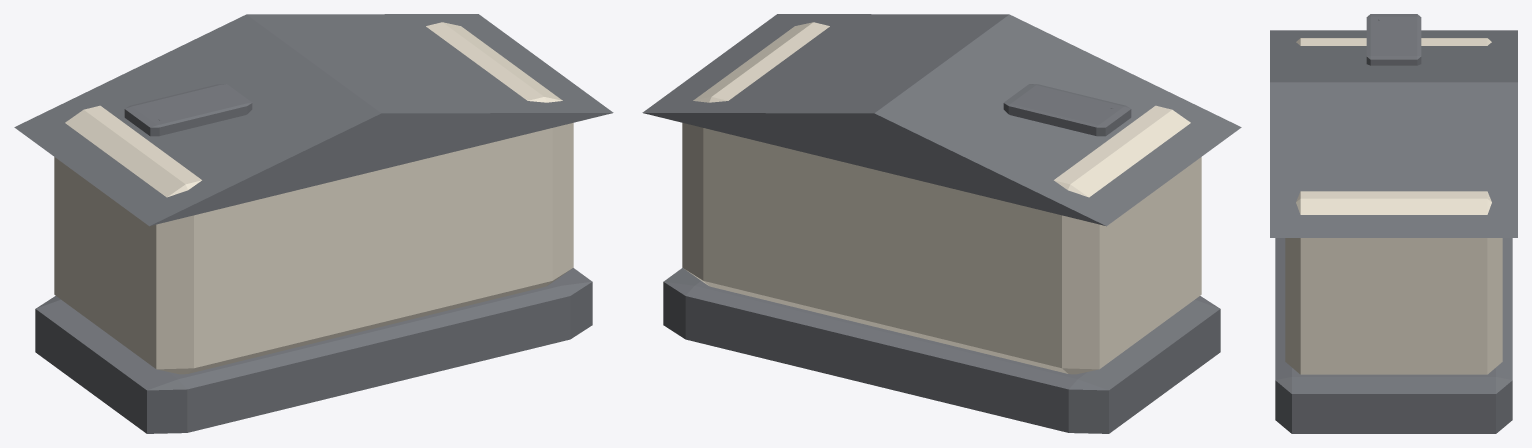
File: b12_barrel_entrance_awning.glb
The picture shows the model from 3 angles, left to right: view 1: azimuth 30°, elevation 25°; view 2: azimuth 150°, elevation 25°; view 3: azimuth 270°, elevation 25°; orthographic projection. The views are drawn at different scales.
Parts seen in each view (by area): view 1: b12_barrel_entrance_awning; view 2: b12_barrel_entrance_awning; view 3: b12_barrel_entrance_awning.
Boxes of the visible parts, x1,y1,x2,y2 form: b12_barrel_entrance_awning: (14, 14, 613, 433); b12_barrel_entrance_awning: (642, 14, 1241, 433); b12_barrel_entrance_awning: (1270, 14, 1517, 433).
Size of the model in its own units: 1.99 by 1.14 by 1.
